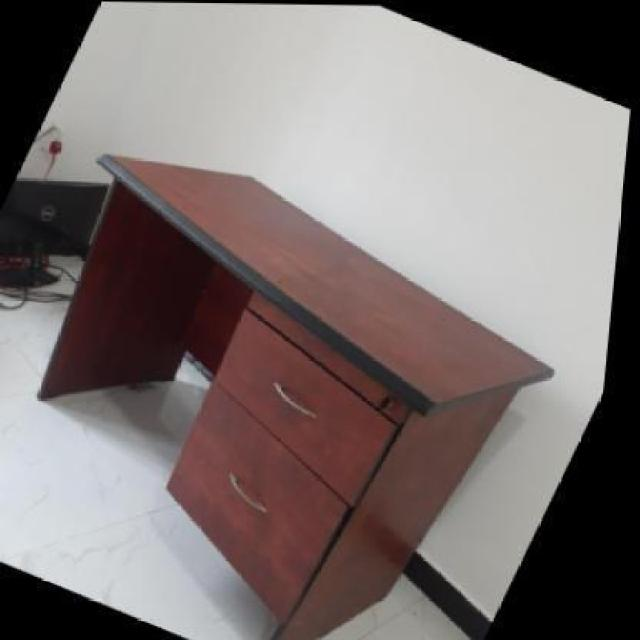tables: (36, 151, 556, 638)
